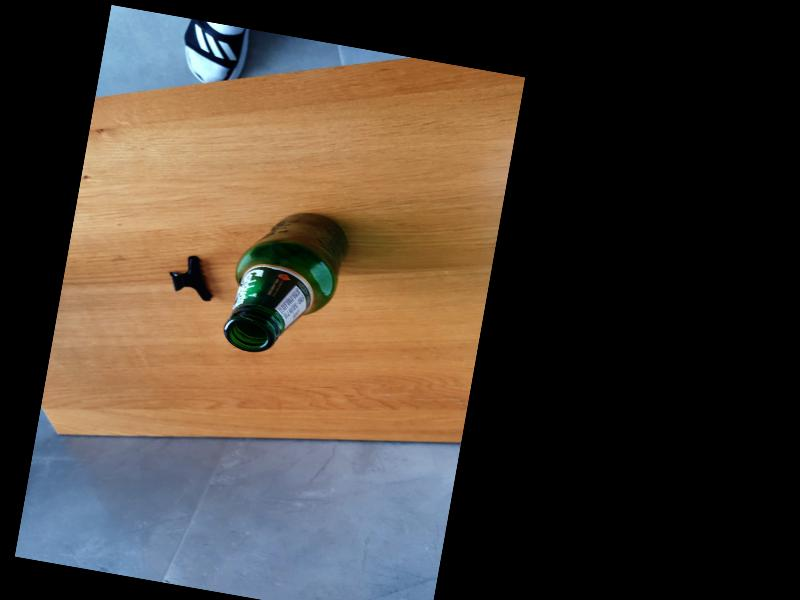Beer: (220, 200, 353, 365)
